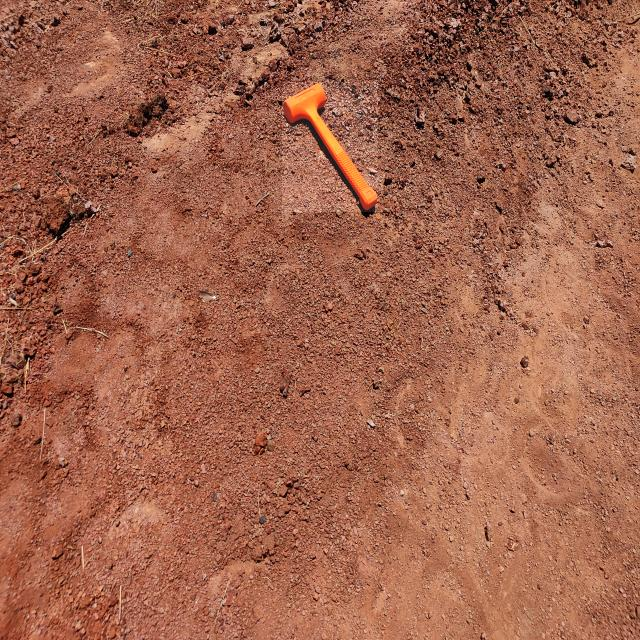Orange_hammer: (282, 82, 378, 212)
